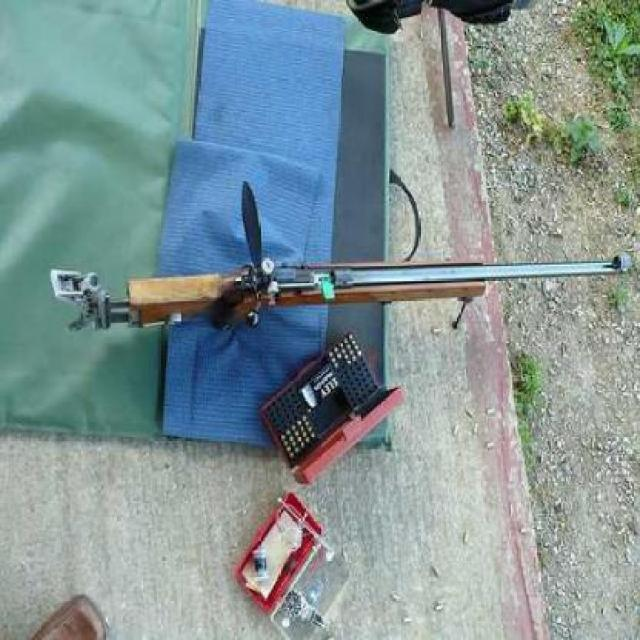weapon: (59, 250, 625, 328)
